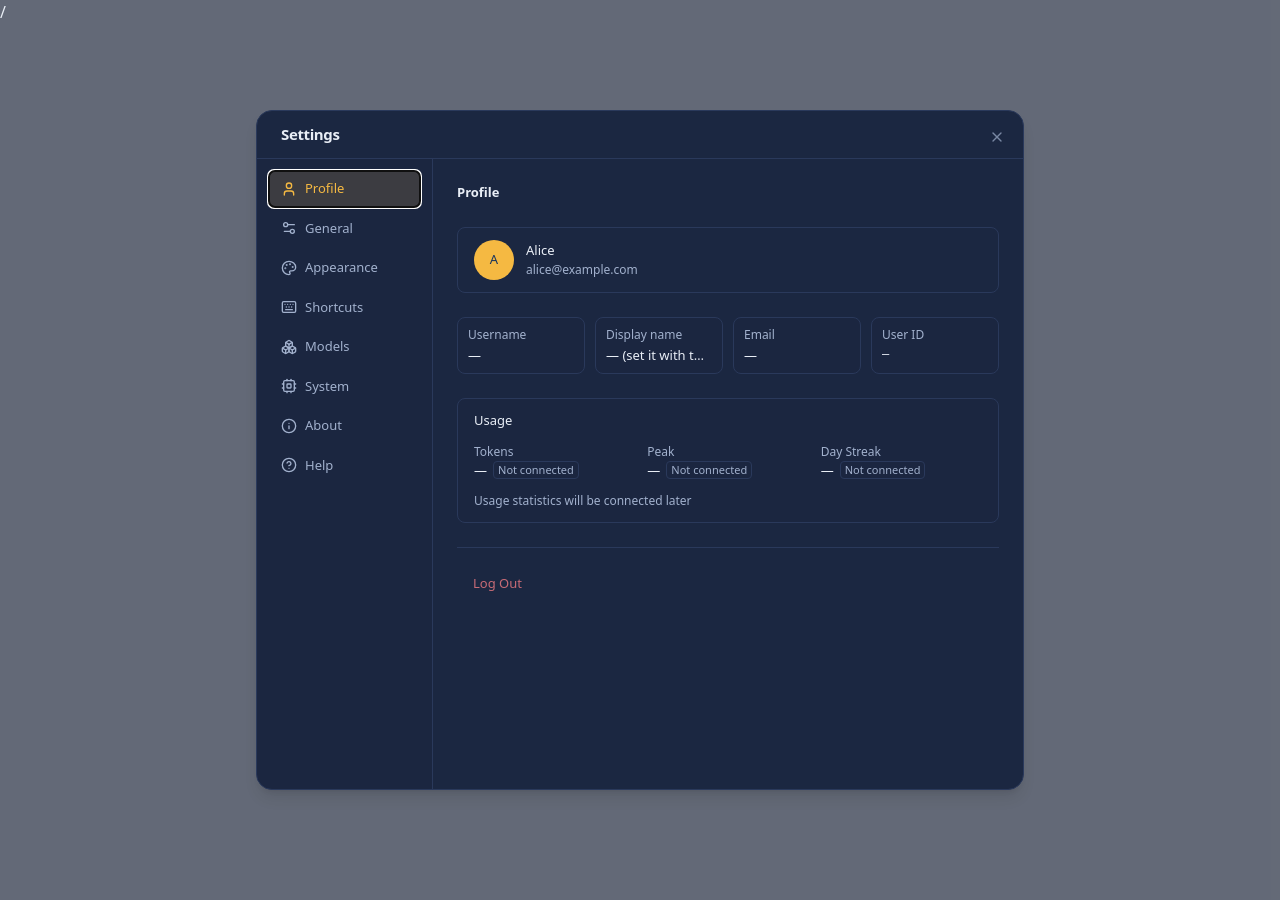
Test: SettingsDialog › F-26：快捷键分区 → 搜索 / 恢复默认（禁用）/ 只读表格
What coordinates should you click on to do the following:
click the button with test id "settings-dialog-nav-shortcuts"
I would click on:
 (344, 307)
Its box is left=269, top=290, right=420, bottom=325.
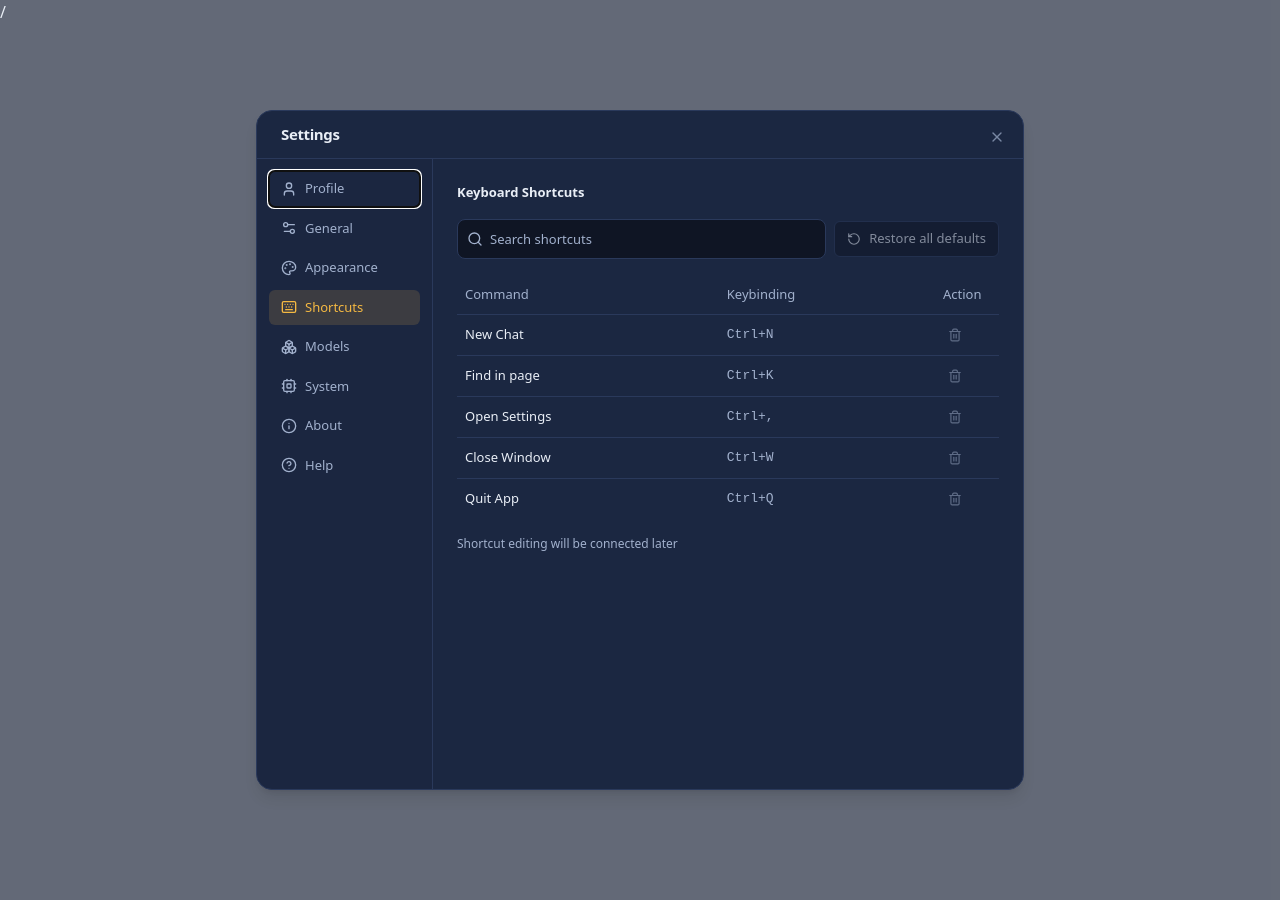
Result: the element with test id "settings-shortcuts" is shown at left=457, top=183, right=999, bottom=553
Result: the field with test id "settings-shortcuts-search" is shown at left=457, top=218, right=826, bottom=258
Result: the button with test id "settings-shortcuts-reset" is disabled at left=834, top=220, right=999, bottom=256
